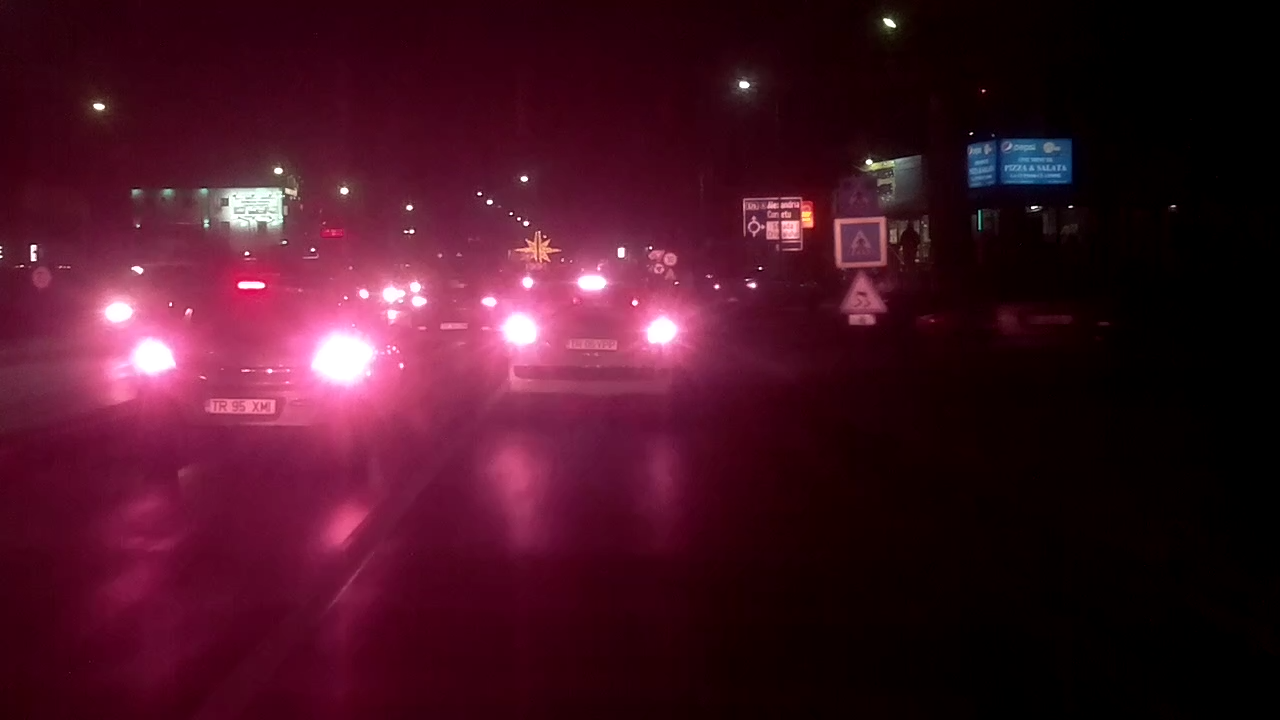license-plate: (198, 394, 280, 419)
